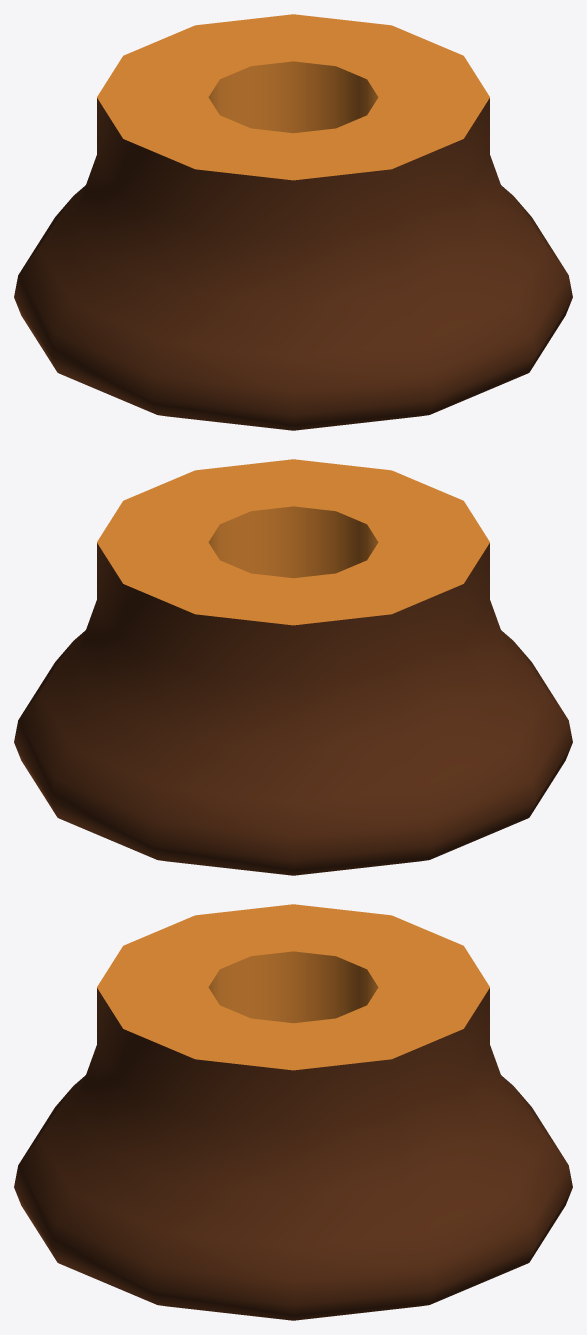
Rendered from Pipe_ValveEnd.fbx.
3 renders of one model, top to bottom at view 1: azimuth 30°, elevation 25°; view 2: azimuth 150°, elevation 25°; view 3: azimuth 270°, elevation 25°, orthographic.
Visible parts, largest first — view 1: Pipe_ValveEnd; view 2: Pipe_ValveEnd; view 3: Pipe_ValveEnd.
Part boxes in pixels (left/top/right/bottom): Pipe_ValveEnd: left=14, top=14, right=572, bottom=430; Pipe_ValveEnd: left=14, top=459, right=572, bottom=875; Pipe_ValveEnd: left=14, top=904, right=572, bottom=1320.
Bounding box in the file's own units: 71.06 × 31.75 × 71.06.
